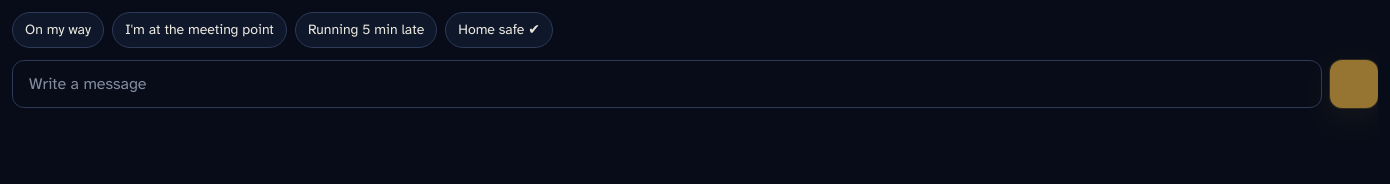
Test: <ChatComposer> › blocks sending a postcode or phone number
The image size is (1390, 184).
Step 1. Type "my number is 07700 900123" into the text box labelled "message" → (667, 84), box [12,60,1322,108]
Then press Enter
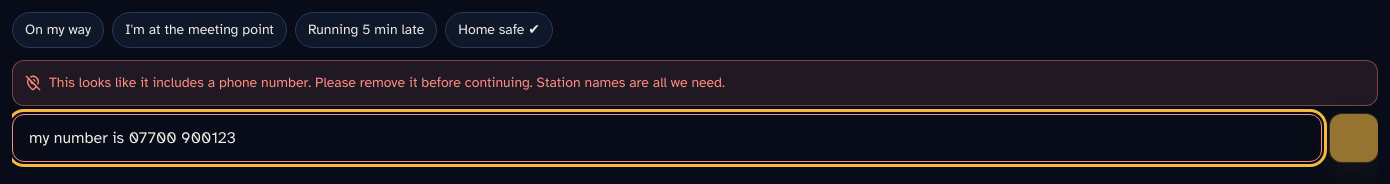
expect the button named "Send" is disabled: met, box [1330,114,1378,162]
expect the text "a phone number" is shown: met, box [49,74,725,91]
